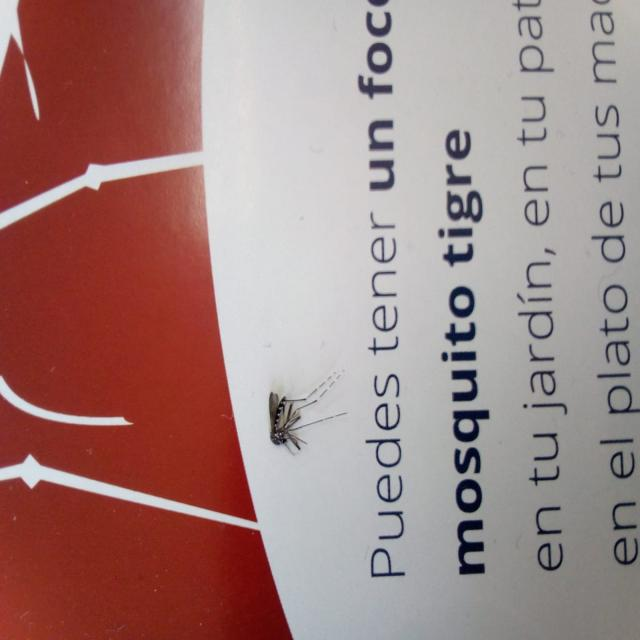albopictus: (258, 362, 349, 463)
